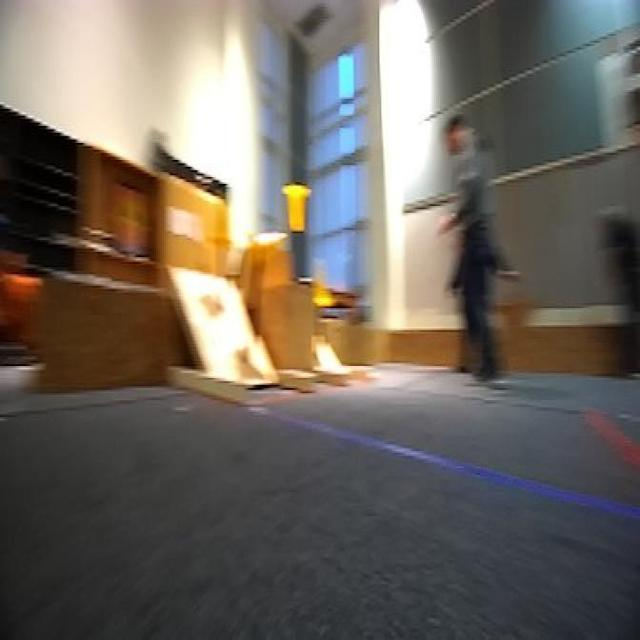frc_cone: (242, 228, 284, 279), (202, 189, 234, 254), (283, 176, 310, 233), (312, 259, 338, 313)
